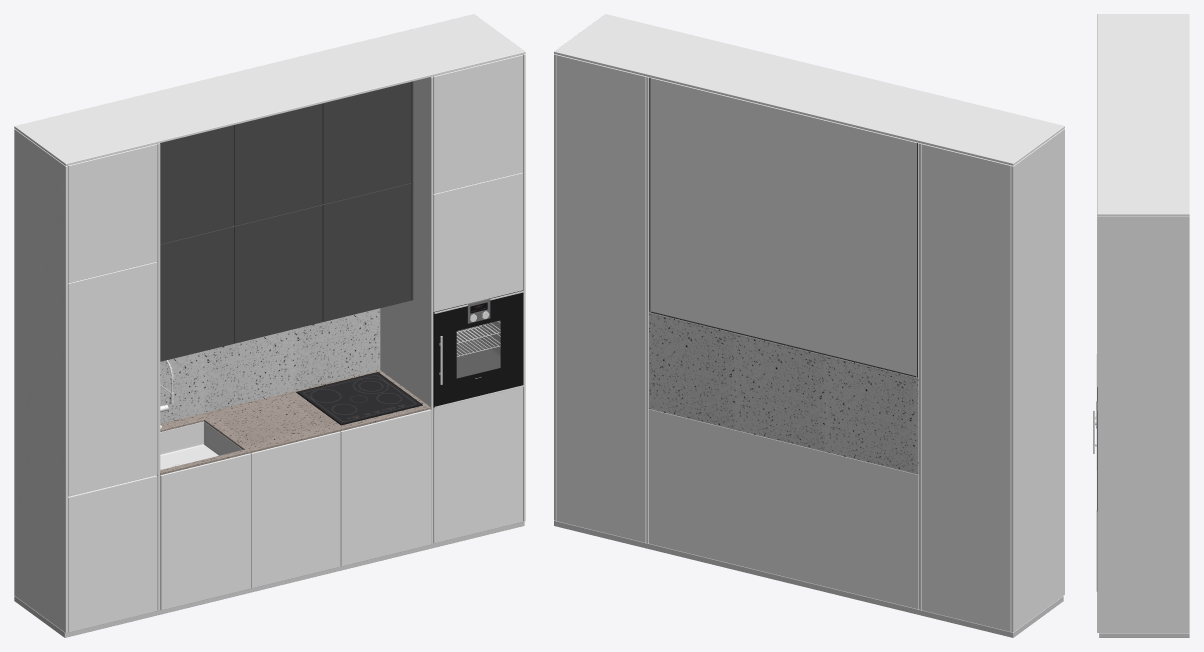
Rendered from kitchen-transformed.glb.
3 renders of one model, left to right at view 1: azimuth 30°, elevation 25°; view 2: azimuth 150°, elevation 25°; view 3: azimuth 270°, elevation 25°, orthographic. The views are drawn at different scales.
Parts seen in each view (by area): view 1: base, Top_doors, Backplate, Surf_&_sink, Microwave, Electric_oven, stand; view 2: base, Backplate, stand, Top_doors; view 3: base, stand, Microwave.
Part boxes in pixels (box(x1,y1,x2,y2)): base: box(14, 14, 525, 632); Top_doors: box(160, 81, 413, 361); Backplate: box(160, 308, 380, 423); Surf_&_sink: box(160, 370, 430, 474); Microwave: box(433, 290, 523, 408); Electric_oven: box(296, 372, 422, 425); stand: box(14, 521, 524, 637); base: box(554, 14, 1064, 632); Backplate: box(649, 312, 918, 474); stand: box(554, 520, 1063, 637); Top_doors: box(649, 77, 917, 377); base: box(1096, 14, 1189, 632); stand: box(1099, 633, 1189, 637); Microwave: box(1093, 387, 1097, 510).
Size of the model in its own units: 3.1 by 3.06 by 0.6303.
Materials: 12 (4 with a texture image).
